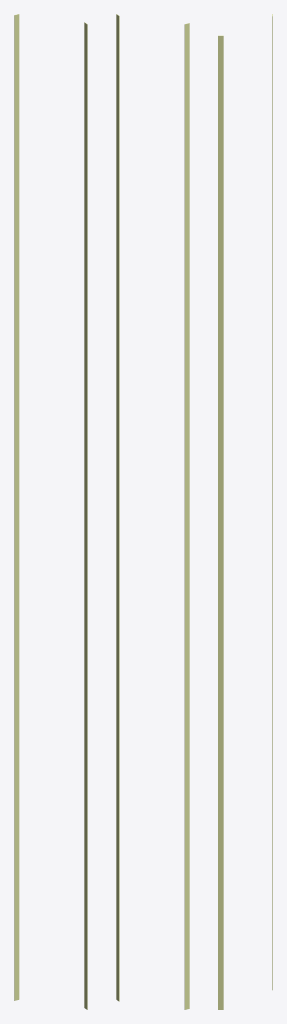
3 renders of one model, left to right at view 1: azimuth 30°, elevation 25°; view 2: azimuth 210°, elevation 25°; view 3: azimuth 270°, elevation 25°, orthographic.
Parts seen in each view (by area): view 1: 3$G4r6mEPF2OjpiaR3MOMl_h147041; view 2: 3$G4r6mEPF2OjpiaR3MOMl_h147041; view 3: 3$G4r6mEPF2OjpiaR3MOMl_h147041.
Part boxes in pixels (x1,y1,x2,y2): 3$G4r6mEPF2OjpiaR3MOMl_h147041: (14, 14, 87, 1009); 3$G4r6mEPF2OjpiaR3MOMl_h147041: (116, 14, 189, 1009); 3$G4r6mEPF2OjpiaR3MOMl_h147041: (218, 14, 272, 1009).
Size of the model in its own units: 0.378 by 7.8 by 0.398.
